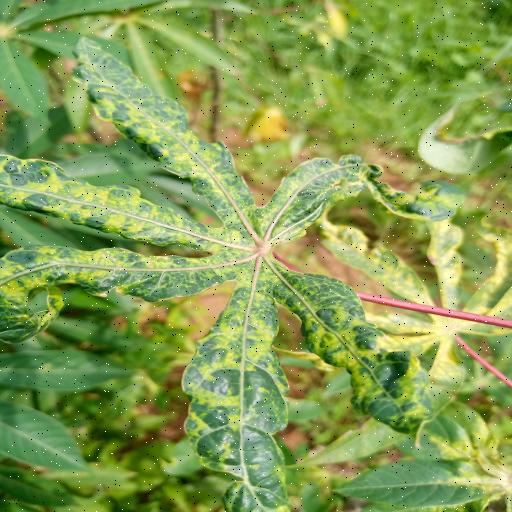Cassava_Mosaic: (0, 32, 473, 512)
